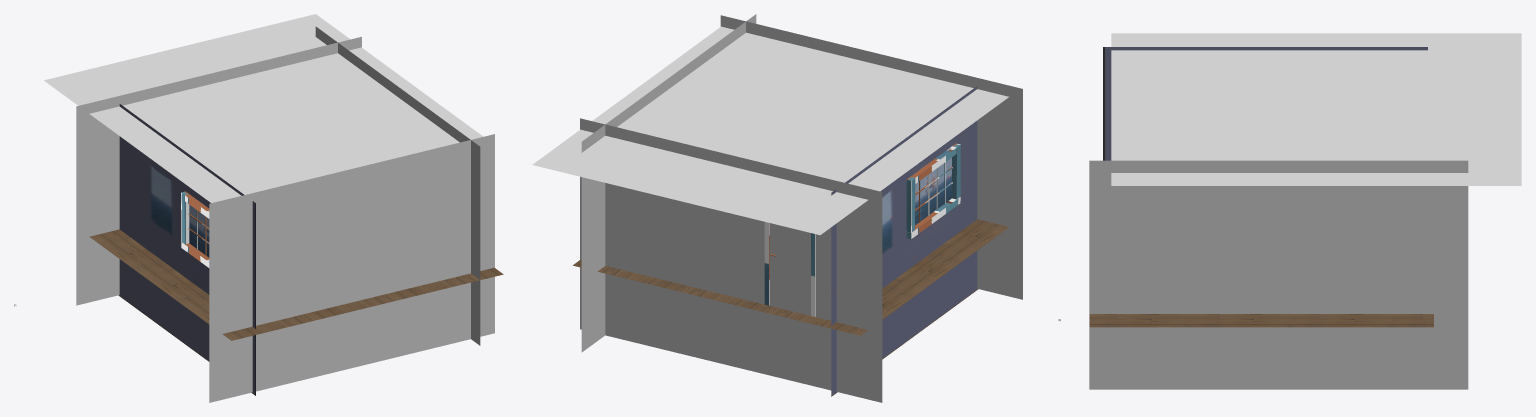
Rendered from TexturedRoomContext.fbx.
3 views of the same model, side by side, from view 1: azimuth 30°, elevation 25°; view 2: azimuth 150°, elevation 25°; view 3: azimuth 270°, elevation 25° (orthographic). The views are drawn at different scales.
Parts seen in each view (by area): view 1: Plane.005, Plane.002, Plane.001, Plane.004, Plane, Plane.003, WindowsNoTexture; view 2: Plane.002, Plane.004, Plane.001, Plane.005, Plane.003, Plane, WindowsNoTexture, DoorNoTexture; view 3: Plane.003, Plane.002, Plane, Plane.001.
Part boxes in pixels (box(x1,y1,x2,y2)): Plane.005: box(209, 134, 494, 402); Plane.002: box(44, 14, 483, 202); Plane.001: box(118, 104, 255, 395); Plane.004: box(76, 36, 361, 305); Plane: box(89, 229, 503, 340); Plane.003: box(315, 26, 480, 345); WindowsNoTexture: box(181, 191, 209, 267); Plane.002: box(532, 26, 1008, 235); Plane.004: box(580, 118, 882, 402); Plane.001: box(831, 86, 978, 396); Plane.005: box(720, 15, 1022, 299); Plane.003: box(581, 14, 756, 352); Plane: box(573, 219, 1008, 335); WindowsNoTexture: box(906, 143, 960, 239); DoorNoTexture: box(764, 222, 815, 316); Plane.003: box(1089, 160, 1468, 389); Plane.002: box(1111, 33, 1521, 185); Plane: box(1089, 314, 1433, 327); Plane.001: box(1103, 47, 1427, 160).
Bounding box in the file's own units: 10892 × 5209 × 8859.
